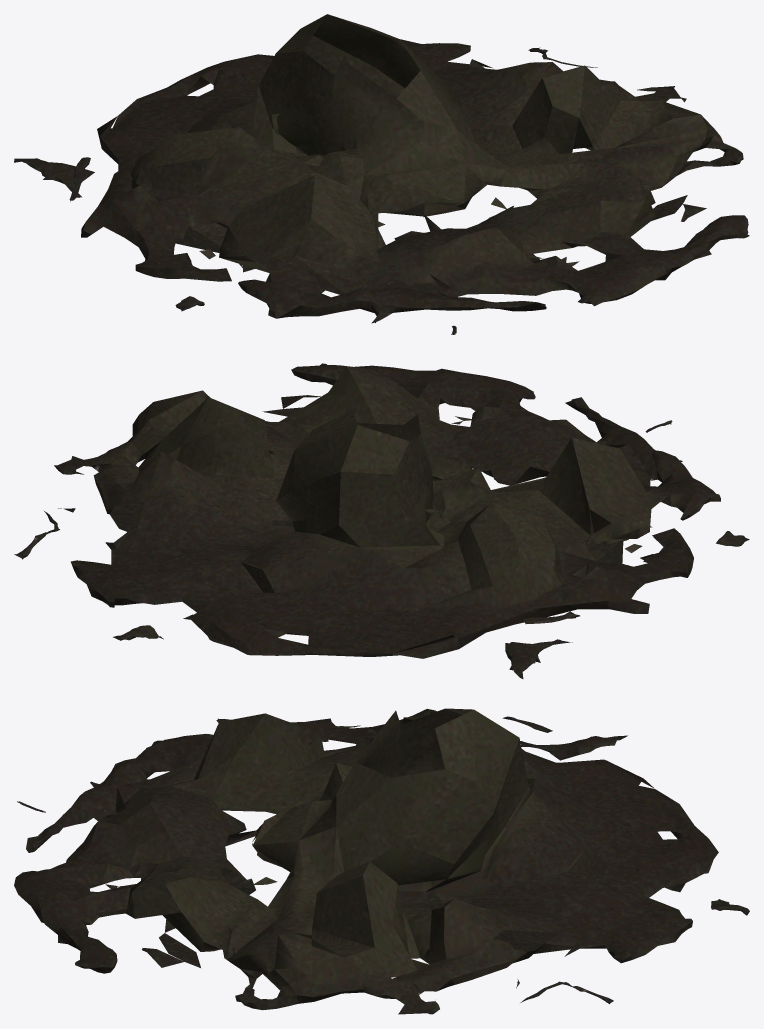
The model's file is b6-pebbles-pixelated.glb.
3 renders of one model, top to bottom at view 1: azimuth 30°, elevation 25°; view 2: azimuth 150°, elevation 25°; view 3: azimuth 270°, elevation 25°, orthographic. The views are drawn at different scales.
Visible parts, largest first — view 1: b6-pebbles.glb; view 2: b6-pebbles.glb; view 3: b6-pebbles.glb.
Part boxes in pixels (left/top/right/bottom): b6-pebbles.glb: left=14, top=14, right=749, bottom=334; b6-pebbles.glb: left=14, top=363, right=749, bottom=678; b6-pebbles.glb: left=14, top=708, right=749, bottom=1014.
Bounding box in the file's own units: 1.72 × 0.4202 × 1.79.
1 material, 1 textured.
